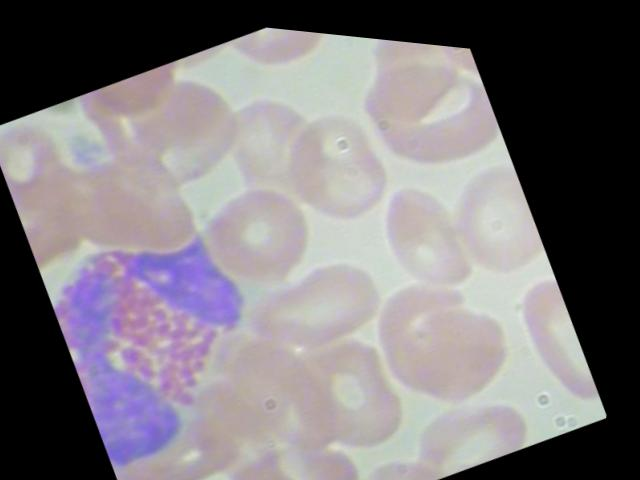Platelets: (53, 112, 115, 179)
Red Blood Cells: (232, 218, 404, 371), (256, 79, 413, 243), (350, 39, 515, 194), (185, 154, 339, 309), (385, 266, 539, 420), (287, 302, 430, 462), (359, 155, 492, 299), (388, 362, 551, 479), (433, 133, 561, 281), (208, 76, 330, 200), (82, 45, 203, 139), (0, 100, 89, 213), (193, 418, 337, 479), (225, 19, 347, 87), (344, 424, 449, 479)
White Blood Cells: (29, 185, 314, 479)
